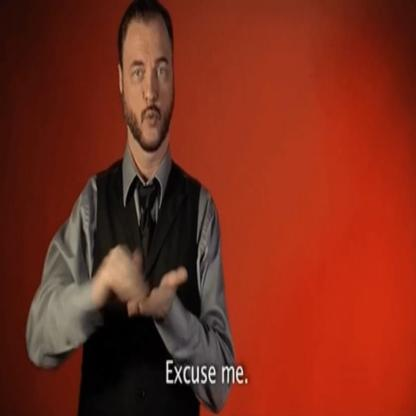ExcuseMe: (28, 5, 234, 416)
